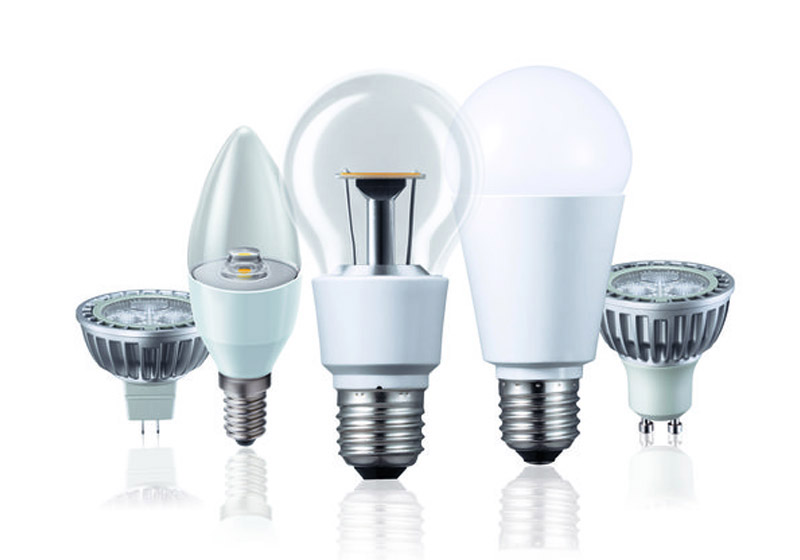Light_bulb: (441, 62, 646, 469), (278, 62, 472, 479), (158, 93, 319, 461), (65, 262, 225, 438), (587, 255, 738, 436)
